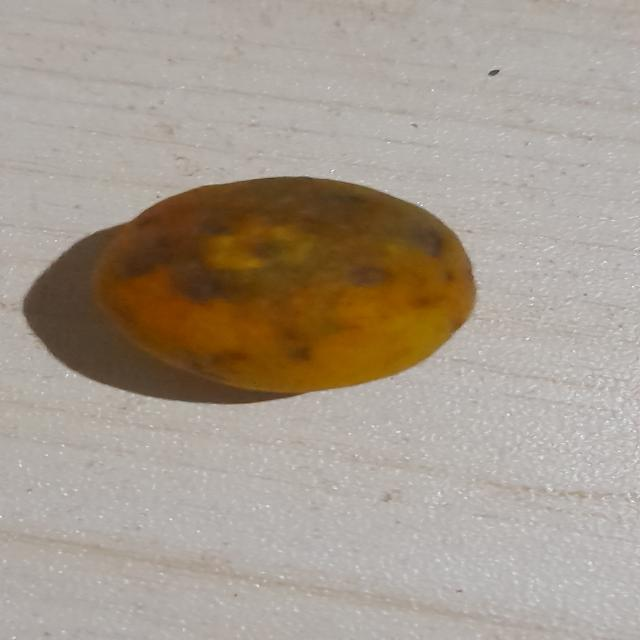black spot: (86, 172, 488, 405)
